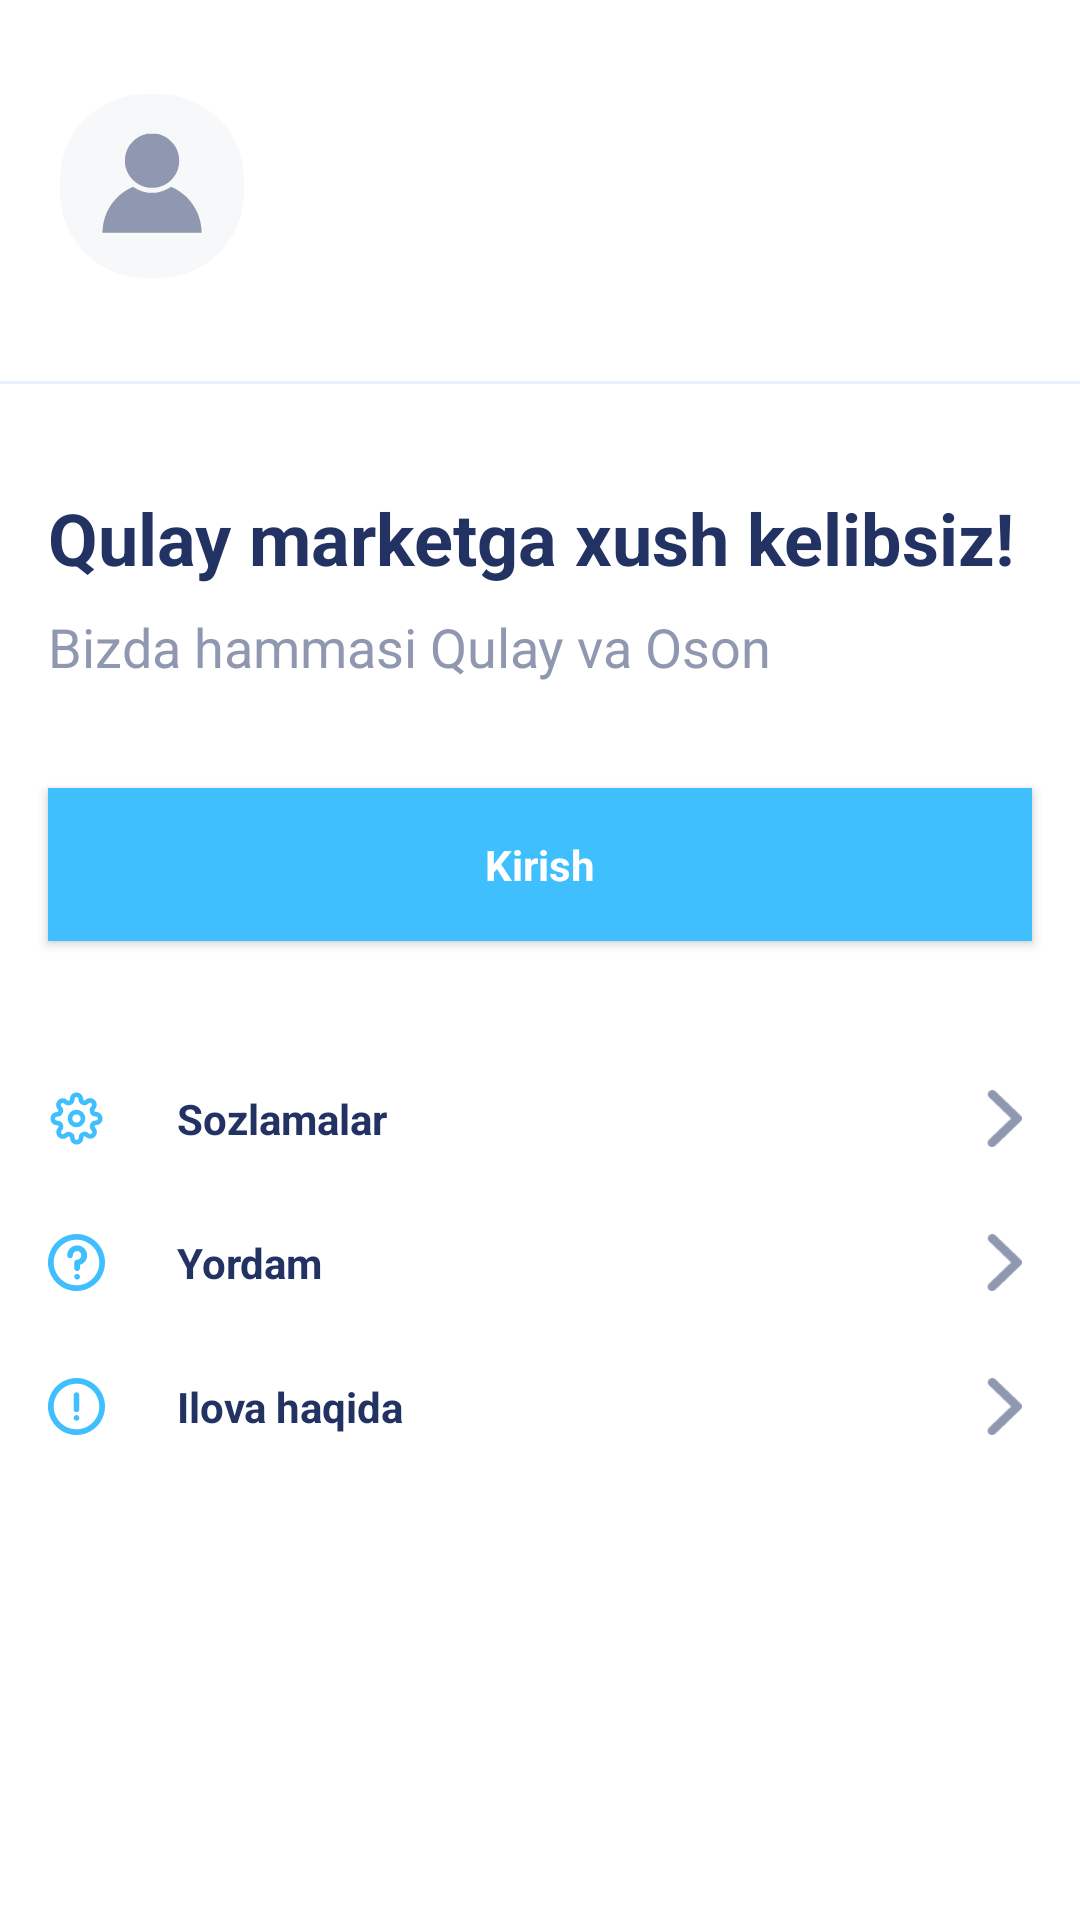

Named icons in this screenshot (1080*1920) and their bounding boxes, region(x1, y1, x2, y2):
about: region(48, 1378, 105, 1435)
help: region(48, 1234, 105, 1291)
man user: region(102, 133, 202, 233)
settings: region(50, 1092, 103, 1145)
